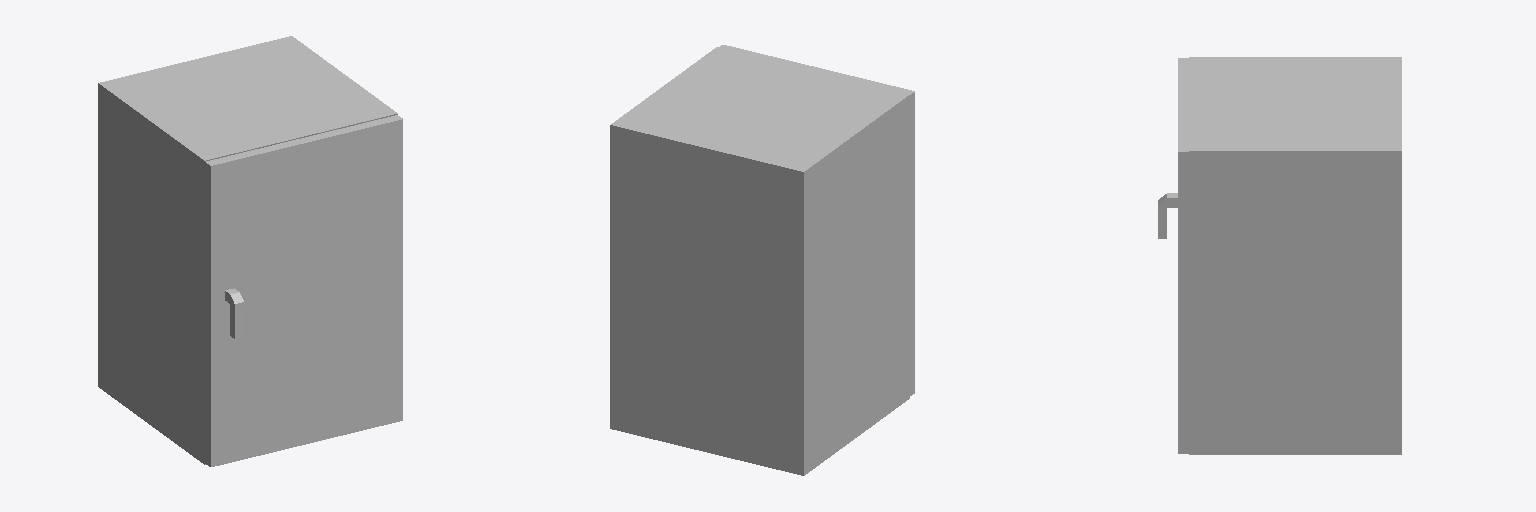
The model's file is fridge.obj.
3 renders of one model, left to right at view 1: azimuth 30°, elevation 25°; view 2: azimuth 150°, elevation 25°; view 3: azimuth 270°, elevation 25°, orthographic.
Size of the model in its own units: 2 by 3 by 2.18.